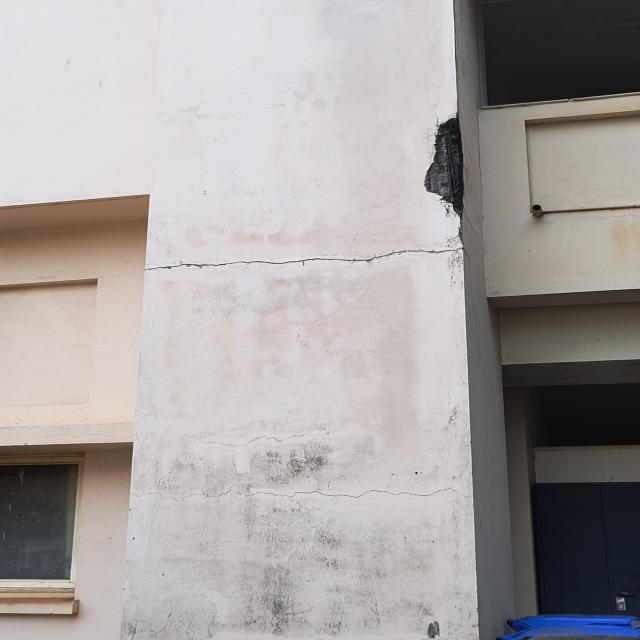Crack: (145, 243, 466, 272), (130, 481, 463, 503), (197, 433, 313, 448)
Spalling: (424, 118, 463, 219)
